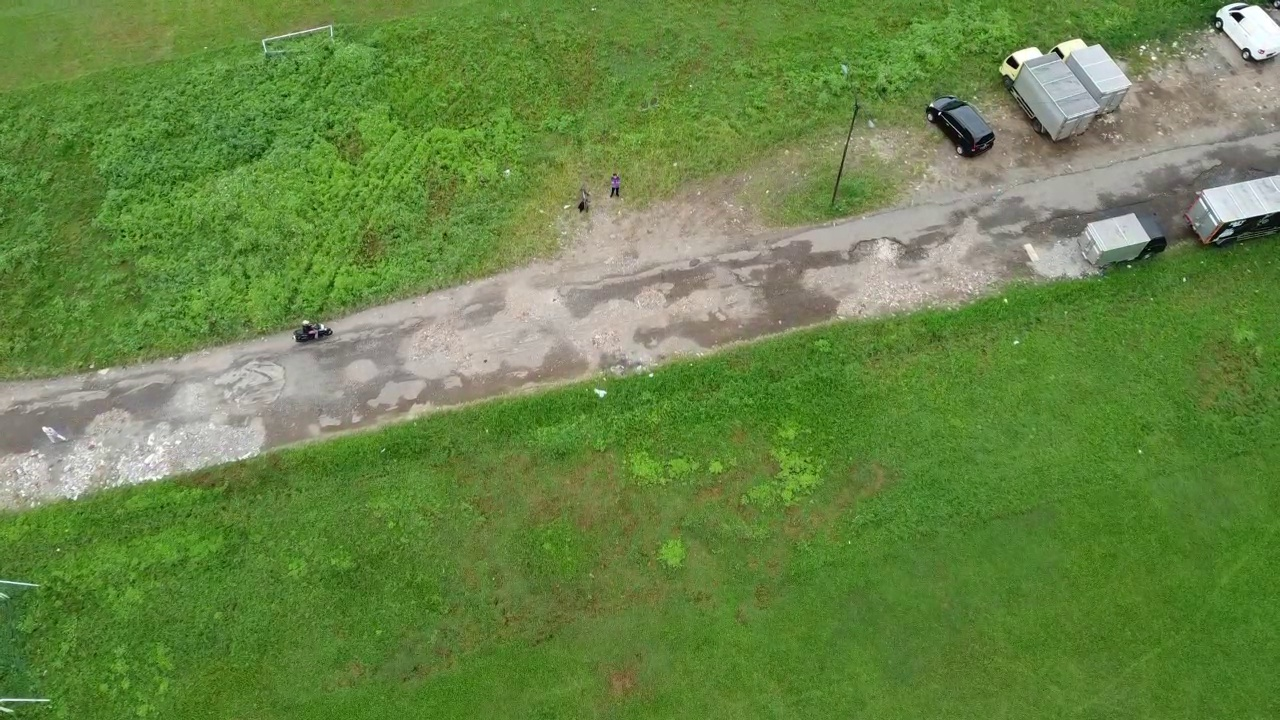mobil: (919, 84, 1001, 166), (1211, 2, 1280, 73)
